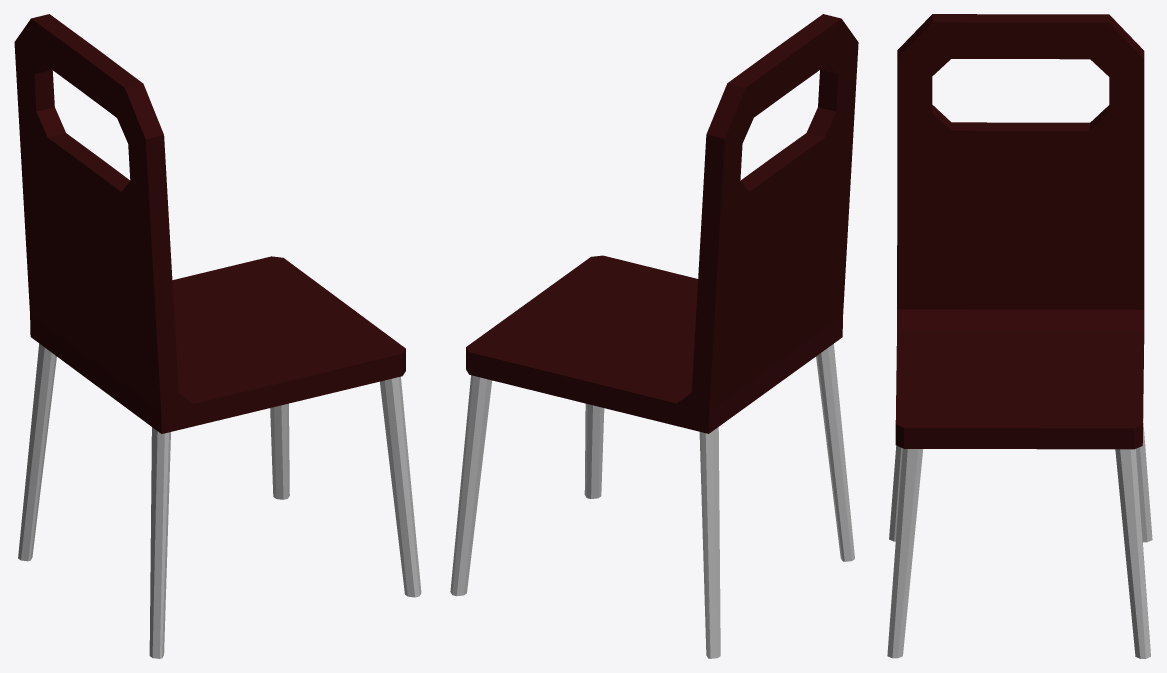
The model's file is chair2.obj.
The picture shows the model from 3 angles, left to right: view 1: azimuth 30°, elevation 25°; view 2: azimuth 150°, elevation 25°; view 3: azimuth 270°, elevation 25°; orthographic projection. The views are drawn at different scales.
Visible parts, largest first — view 1: chair2_Plane.001; view 2: chair2_Plane.001; view 3: chair2_Plane.001.
Boxes of the visible parts, x1,y1,x2,y2 form: chair2_Plane.001: (14,14,421,658); chair2_Plane.001: (450,14,858,658); chair2_Plane.001: (887,14,1152,658).
Bounding box in the file's own units: 0.7242 × 1.39 × 0.6448.
